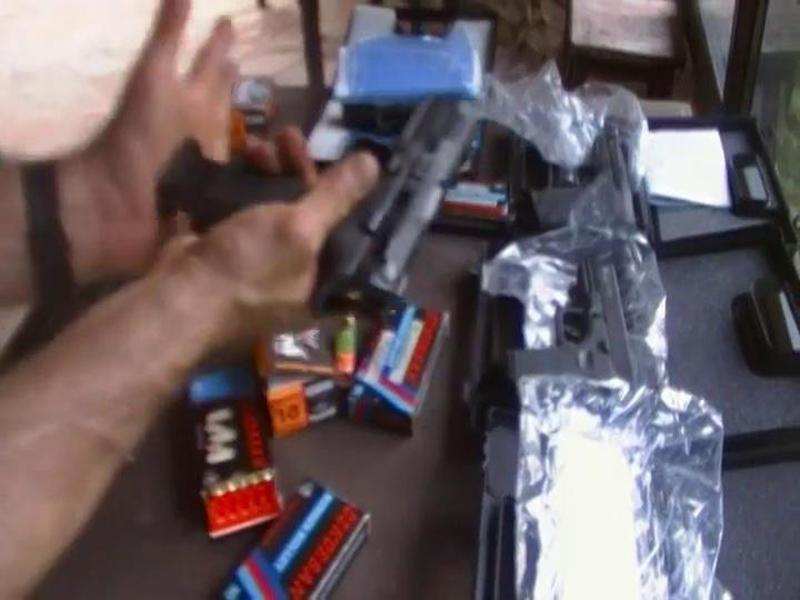Pistola: (196, 59, 485, 350)
